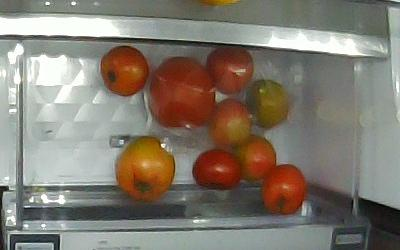tomato: (114, 136, 175, 202), (99, 45, 149, 99), (259, 164, 307, 217), (207, 99, 252, 147), (193, 147, 243, 189), (237, 134, 278, 183)
tomato_vinyl: (149, 56, 218, 128), (206, 48, 258, 96), (246, 80, 294, 129)
